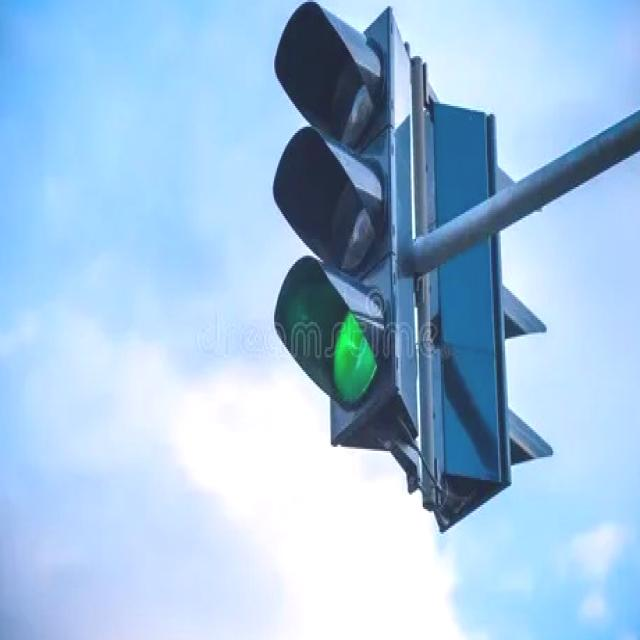yesil: (274, 5, 397, 444)
